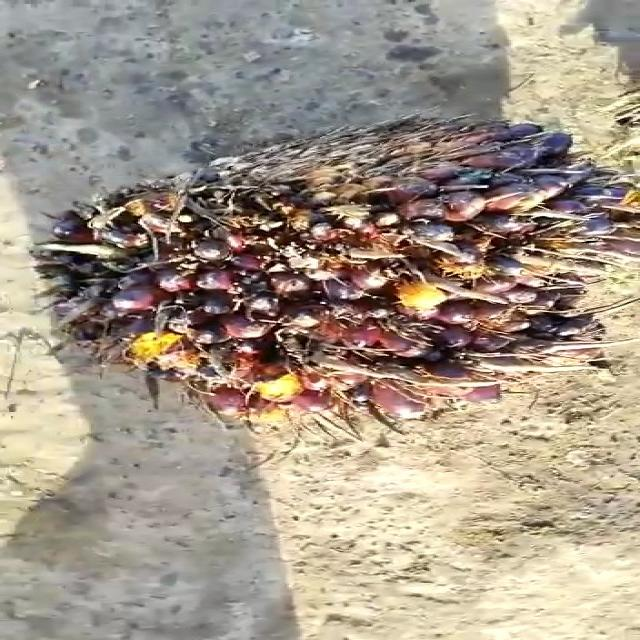palm oil: (30, 83, 640, 439)
